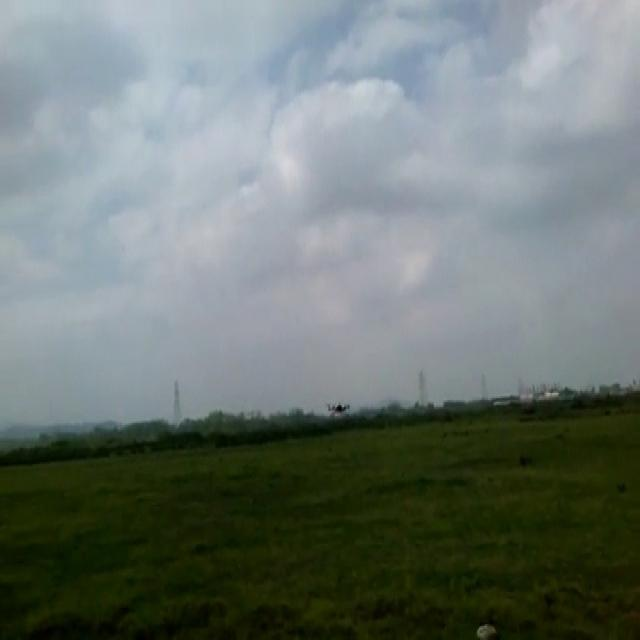drone: (325, 396, 352, 418)
